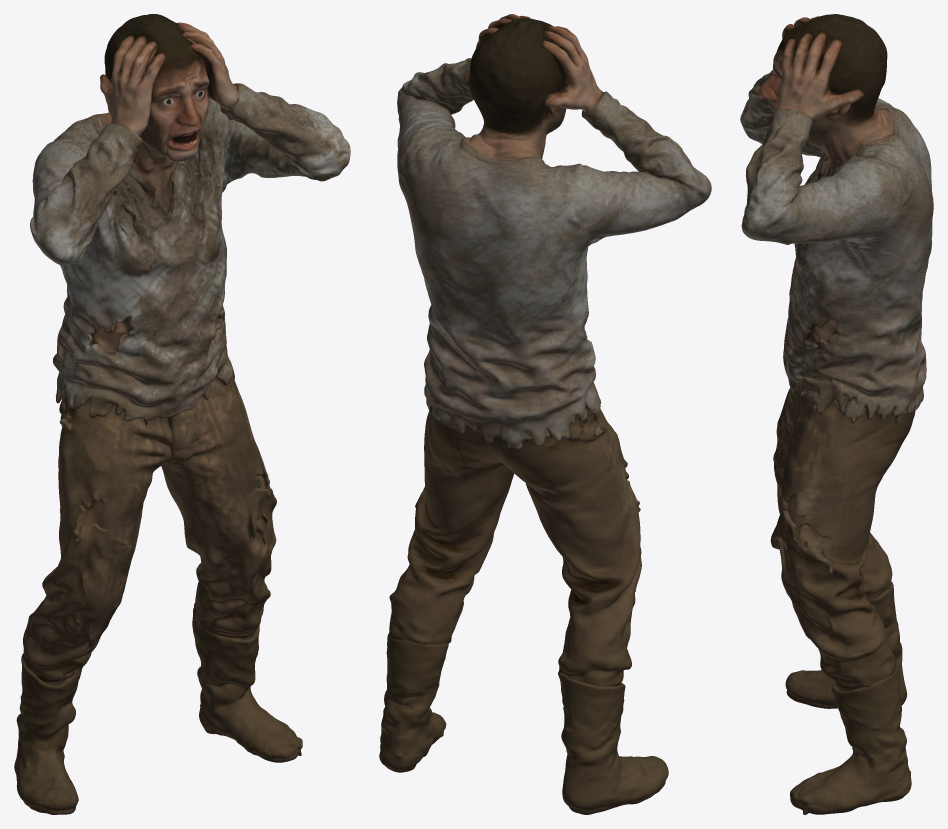
The model's file is 30-el-hombre-que-entró-solo-a-la-peña-optimized.glb.
3 renders of one model, left to right at view 1: azimuth 30°, elevation 25°; view 2: azimuth 150°, elevation 25°; view 3: azimuth 270°, elevation 25°, orthographic. The views are drawn at different scales.
Visible parts, largest first — view 1: tripo_node_4f82f0d4-01d6-4b5e-a3c6-f5257d90fa0d; view 2: tripo_node_4f82f0d4-01d6-4b5e-a3c6-f5257d90fa0d; view 3: tripo_node_4f82f0d4-01d6-4b5e-a3c6-f5257d90fa0d.
Part boxes in pixels (box(x1,y1,x2,y2)): tripo_node_4f82f0d4-01d6-4b5e-a3c6-f5257d90fa0d: box(14, 14, 350, 814); tripo_node_4f82f0d4-01d6-4b5e-a3c6-f5257d90fa0d: box(379, 14, 711, 814); tripo_node_4f82f0d4-01d6-4b5e-a3c6-f5257d90fa0d: box(740, 14, 933, 814).
Bounding box in the file's own units: 0.4256 × 1 × 0.2376.
1 material, 1 textured.
